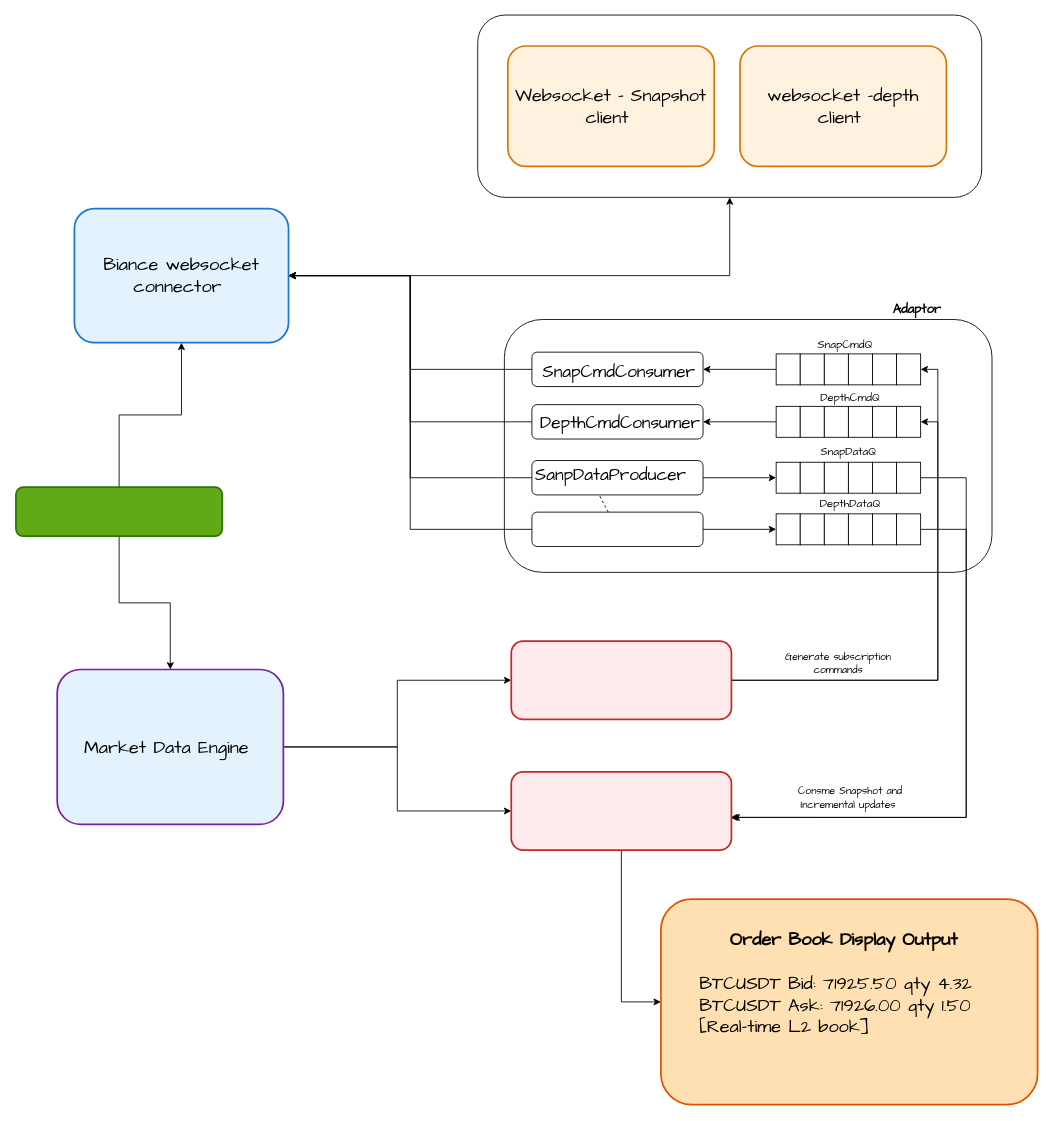
This 1053x1121 diagram has some shape labels left out. The centre of each missing label's shape, as x and y in pixels:
"Command generator" goes at [621,680].
"Data consumer" goes at [621,811].
"DepthDataProdcer" goes at [617,529].
"market_engine_exe" goes at [119,511].
